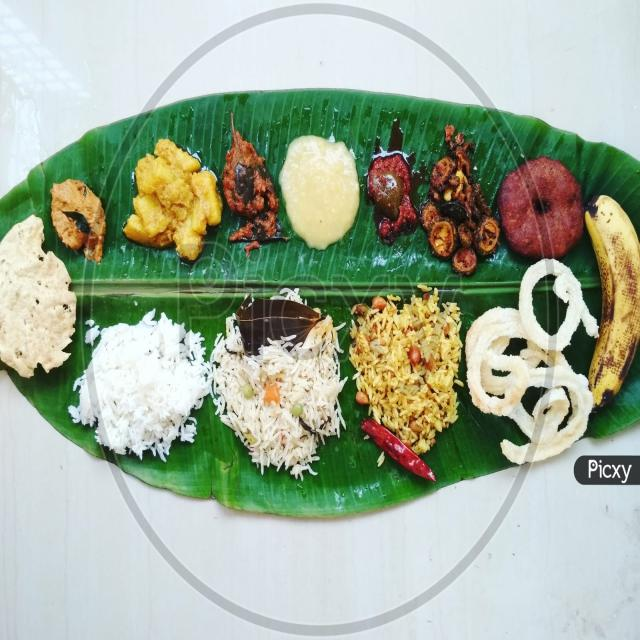veg meals: (0, 96, 640, 500)
